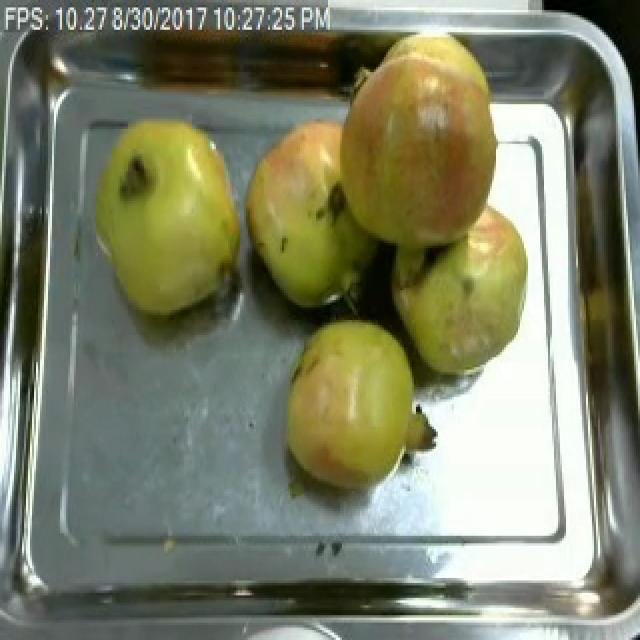fruit: (314, 20, 522, 278), (82, 99, 248, 330), (272, 303, 442, 506), (382, 196, 534, 387)
